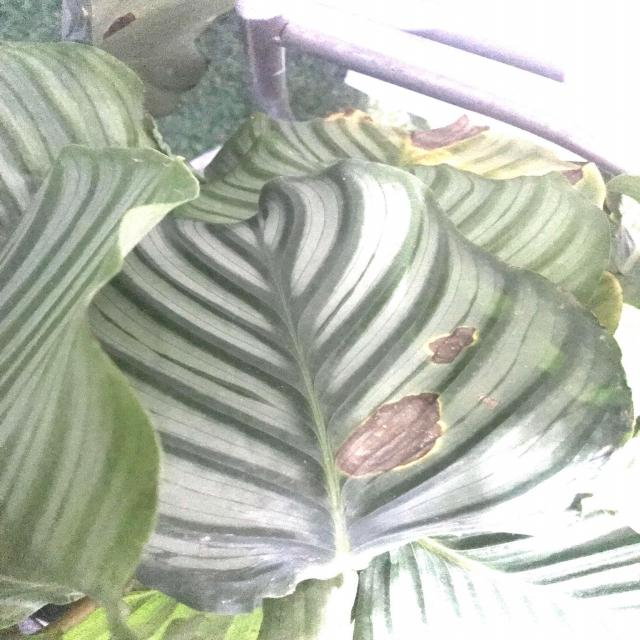blight: (336, 388, 454, 494), (419, 315, 498, 376), (400, 116, 497, 162)
